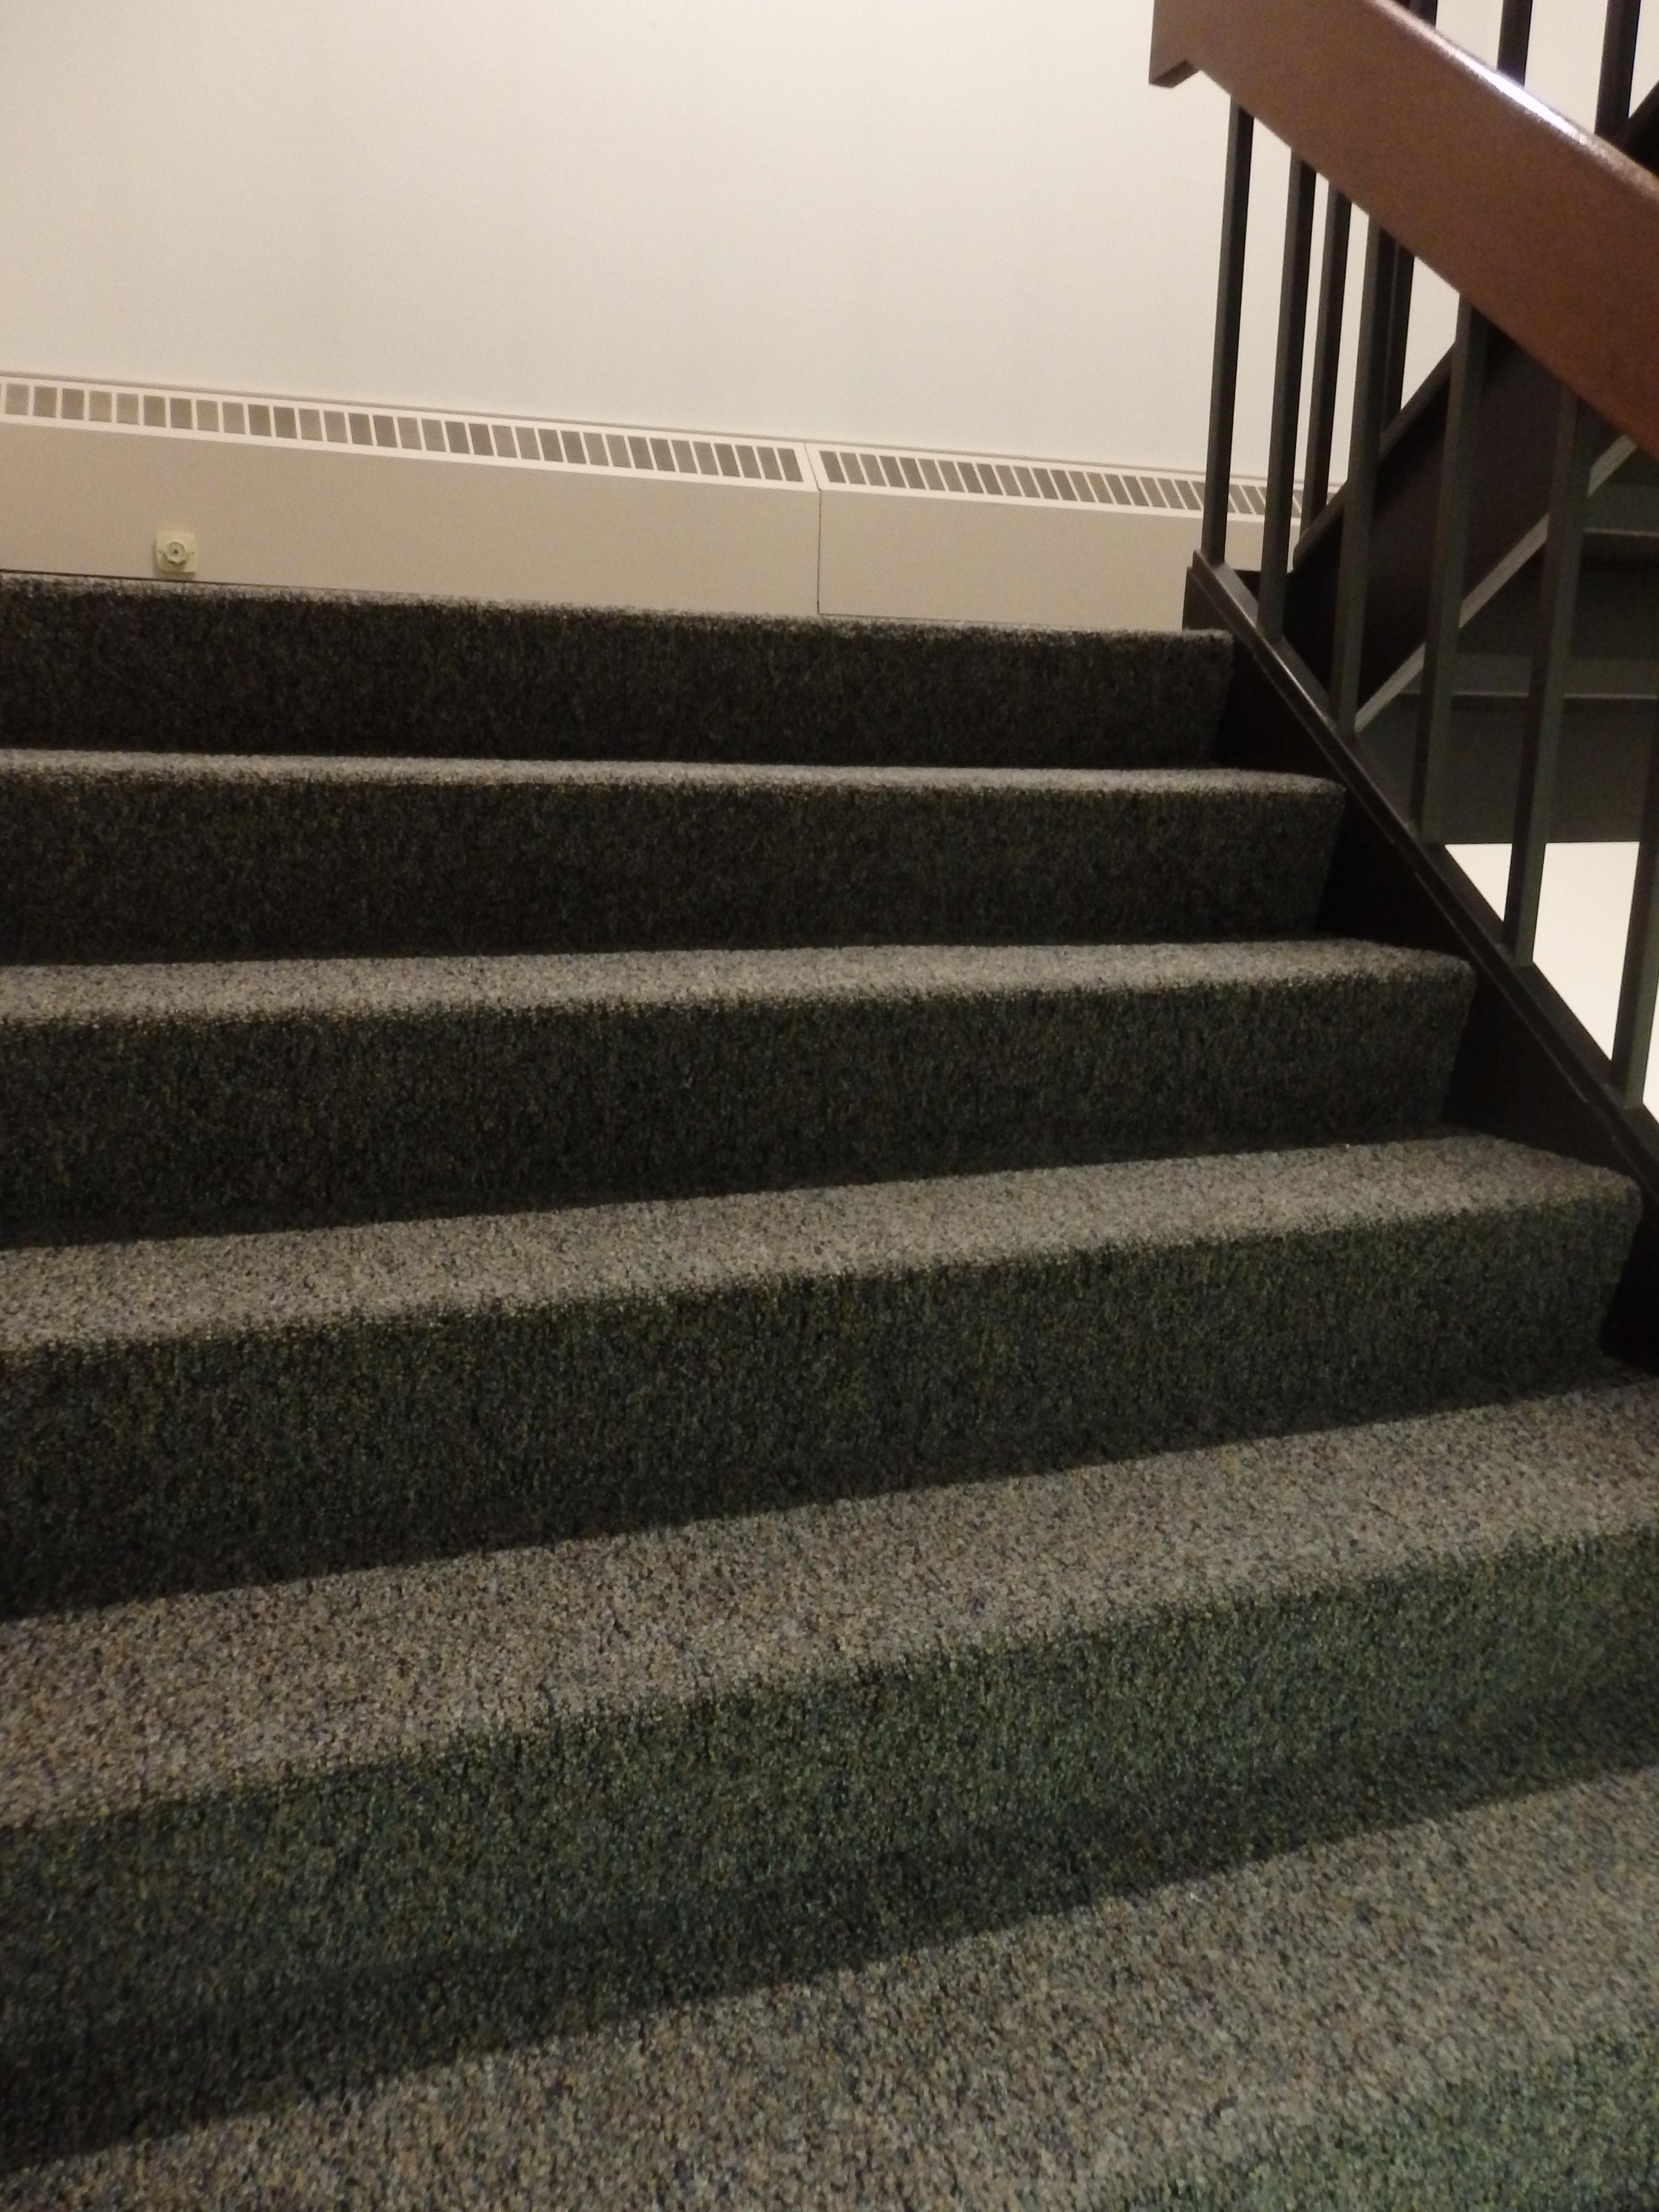stairs_up: (10, 556, 1659, 2207)
